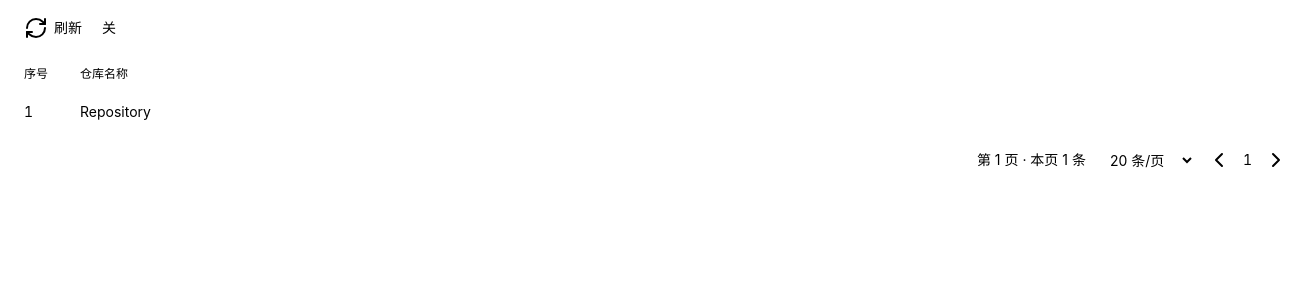
Scenario: shows refresh failures even when a remote page already contains rows, then recovers
Expected: the button named "下一页" is enabled, [1260,144,1292,176]
Click the button "刷新" at (53, 28), box [12,12,94,44]
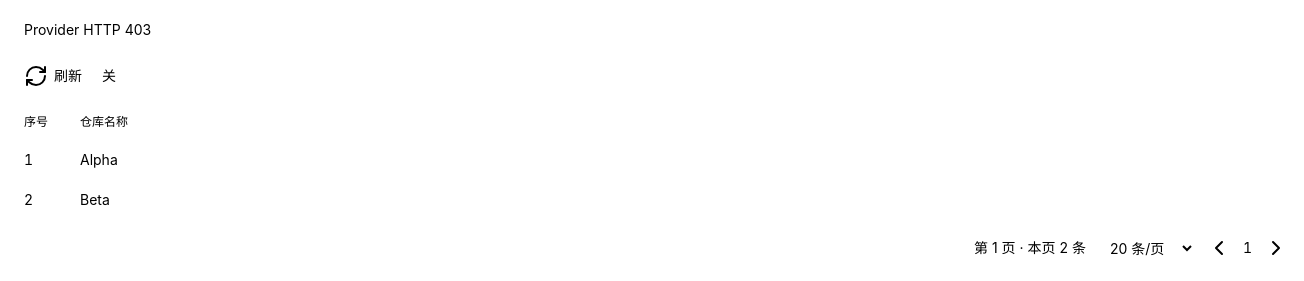
Result: the message "Provider HTTP 403" is shown at [24,21,151,38]
Result: the button named "下一页" is disabled at [1260,232,1292,264]
Click the button "刷新" at (53, 76), box [12,60,94,92]
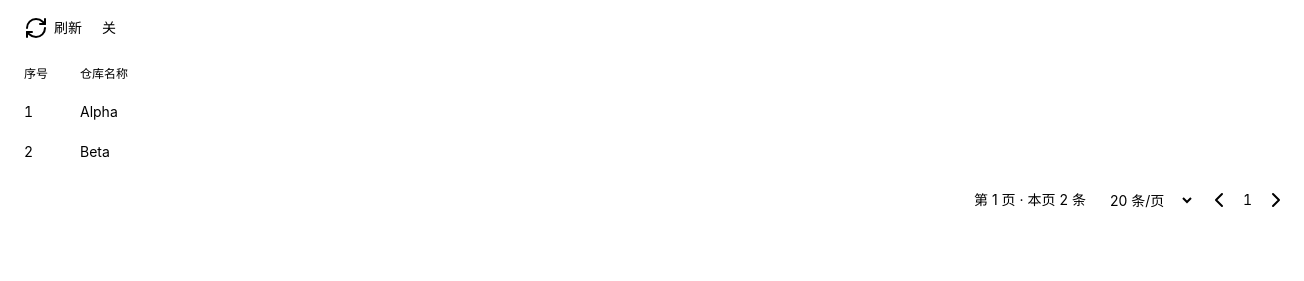
Result: the button named "下一页" is disabled at [1260,184,1292,216]
Result: the message "Provider HTTP 403" is gone
